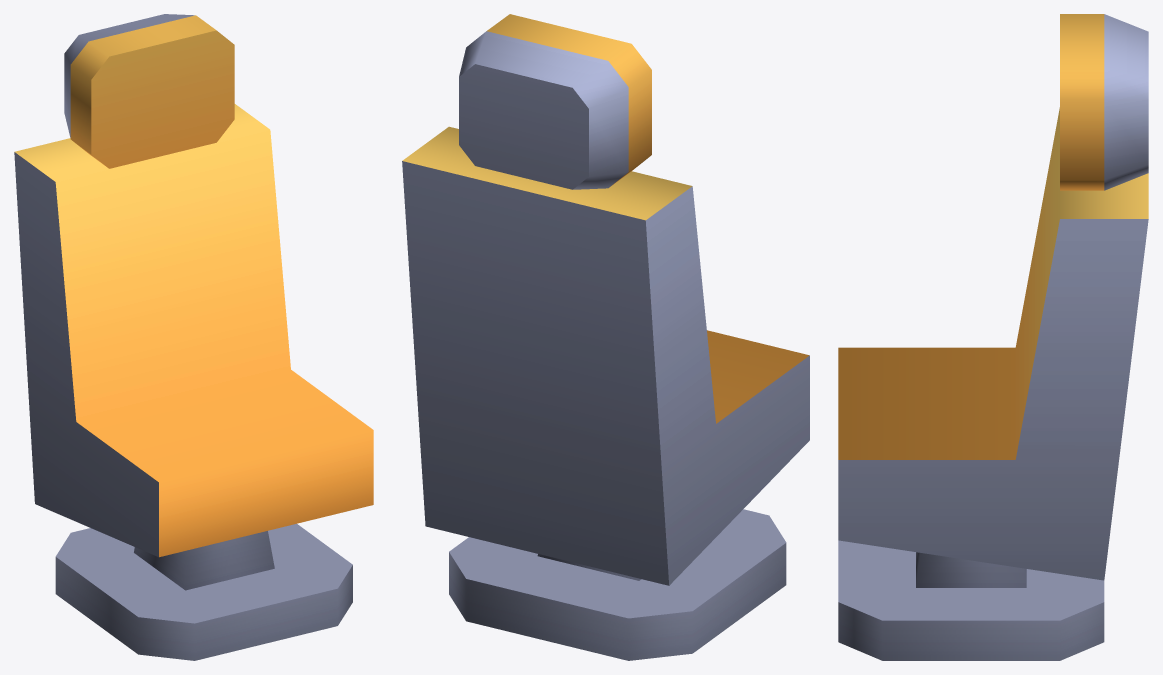
The model's file is kenney-space-station-chair-headrest.glb.
The picture shows the model from 3 angles, left to right: view 1: azimuth 30°, elevation 25°; view 2: azimuth 150°, elevation 25°; view 3: azimuth 270°, elevation 25°; orthographic projection. The views are drawn at different scales.
Visible parts, largest first — view 1: chair-headrest; view 2: chair-headrest; view 3: chair-headrest.
Boxes of the visible parts, x1,y1,x2,y2 form: chair-headrest: (14, 14, 373, 660); chair-headrest: (402, 14, 809, 660); chair-headrest: (838, 14, 1148, 660).
Size of the model in its own units: 0.3 by 0.7 by 0.3499.
Materials: 1 (1 with a texture image).
